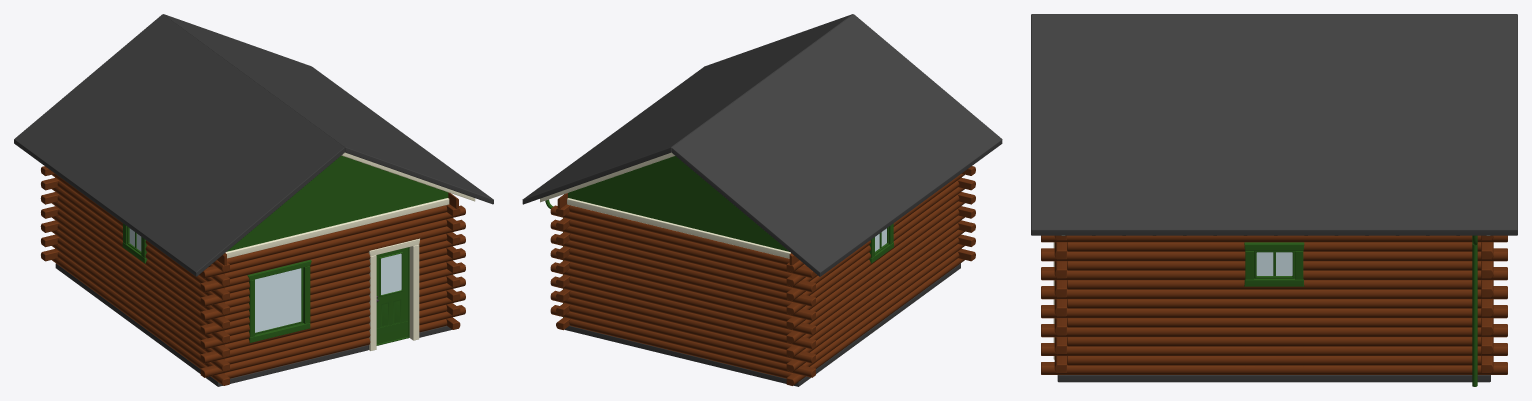
The model's file is house_cabin_1256.obj.
3 renders of one model, left to right at view 1: azimuth 30°, elevation 25°; view 2: azimuth 150°, elevation 25°; view 3: azimuth 270°, elevation 25°, orthographic. The views are drawn at different scales.
Parts seen in each view (by area): view 1: house_cabin_1256_roofGrey, house_cabin_1256_brown_wood, house_cabin_1256_Green, house_cabin_1256_cream, house_cabin_1256_glass, house_cabin_1256_grey; view 2: house_cabin_1256_roofGrey, house_cabin_1256_brown_wood, house_cabin_1256_Green, house_cabin_1256_cream, house_cabin_1256_grey; view 3: house_cabin_1256_roofGrey, house_cabin_1256_brown_wood, house_cabin_1256_grey, house_cabin_1256_Green, house_cabin_1256_glass.
Part boxes in pixels (x1,y1,x2,y2): house_cabin_1256_roofGrey: (14, 14, 493, 276); house_cabin_1256_brown_wood: (40, 166, 465, 385); house_cabin_1256_Green: (122, 155, 448, 345); house_cabin_1256_cream: (225, 152, 475, 350); house_cabin_1256_glass: (129, 228, 401, 332); house_cabin_1256_grey: (55, 263, 451, 386); house_cabin_1256_roofGrey: (522, 14, 1002, 276); house_cabin_1256_brown_wood: (550, 166, 975, 385); house_cabin_1256_Green: (545, 156, 893, 317); house_cabin_1256_cream: (540, 152, 790, 258); house_cabin_1256_grey: (564, 263, 960, 386); house_cabin_1256_roofGrey: (1031, 14, 1517, 235); house_cabin_1256_brown_wood: (1041, 235, 1507, 374); house_cabin_1256_grey: (1057, 375, 1490, 382); house_cabin_1256_Green: (1244, 235, 1477, 386); house_cabin_1256_glass: (1256, 252, 1292, 275).
Size of the model in its own units: 22.71 by 15.92 by 24.06.
